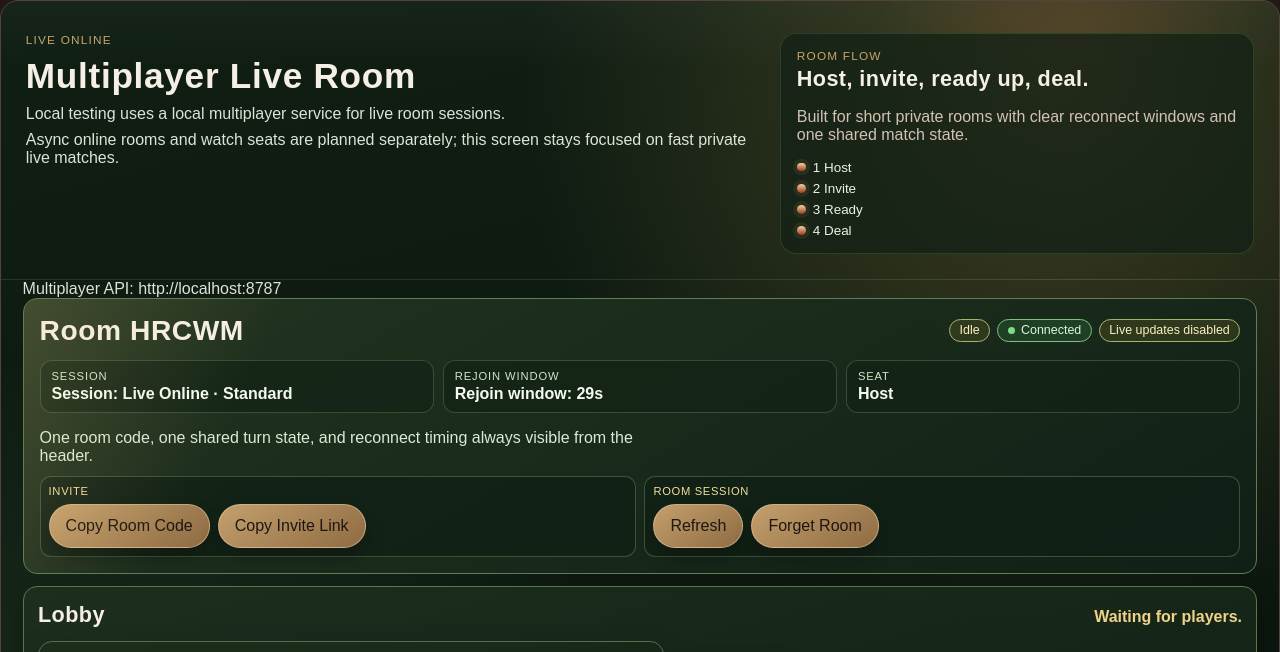
Scenario: MultiplayerScreen › shows a copy notice when invite link is copied
The image size is (1280, 652).
Click the button "Copy Invite Link": {"x": 292, "y": 526} [218, 504, 366, 548]
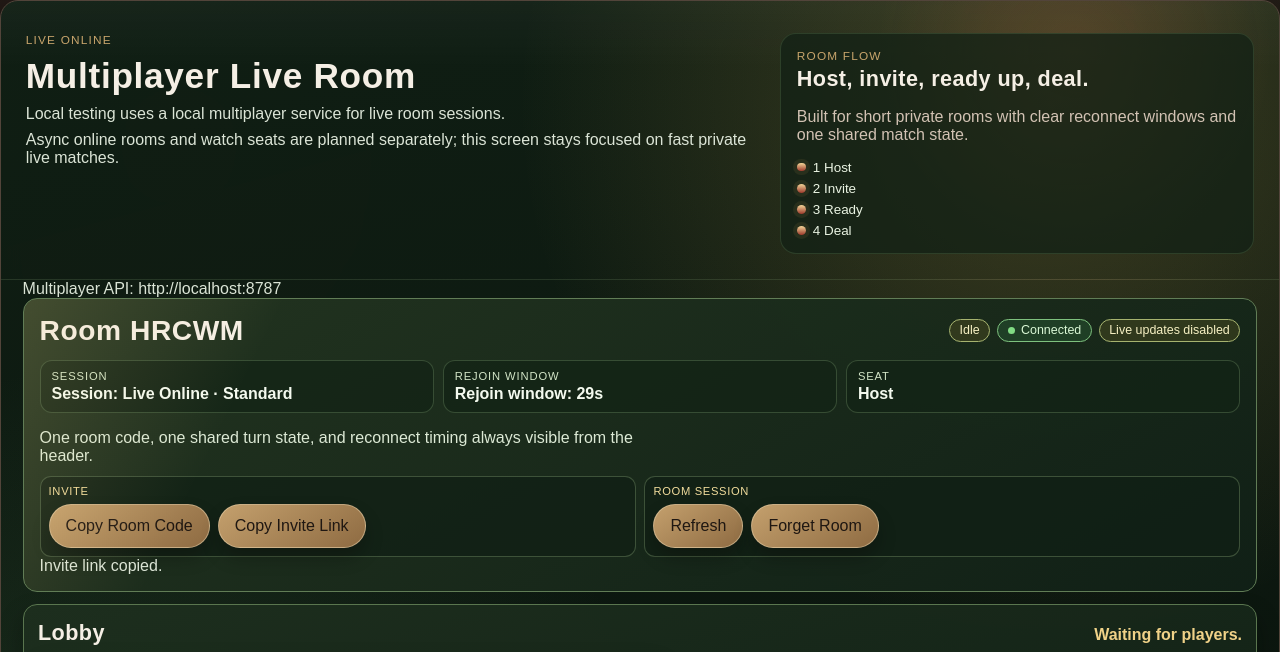
Now the text "Invite link copied." is shown, box [40, 557, 162, 574]
